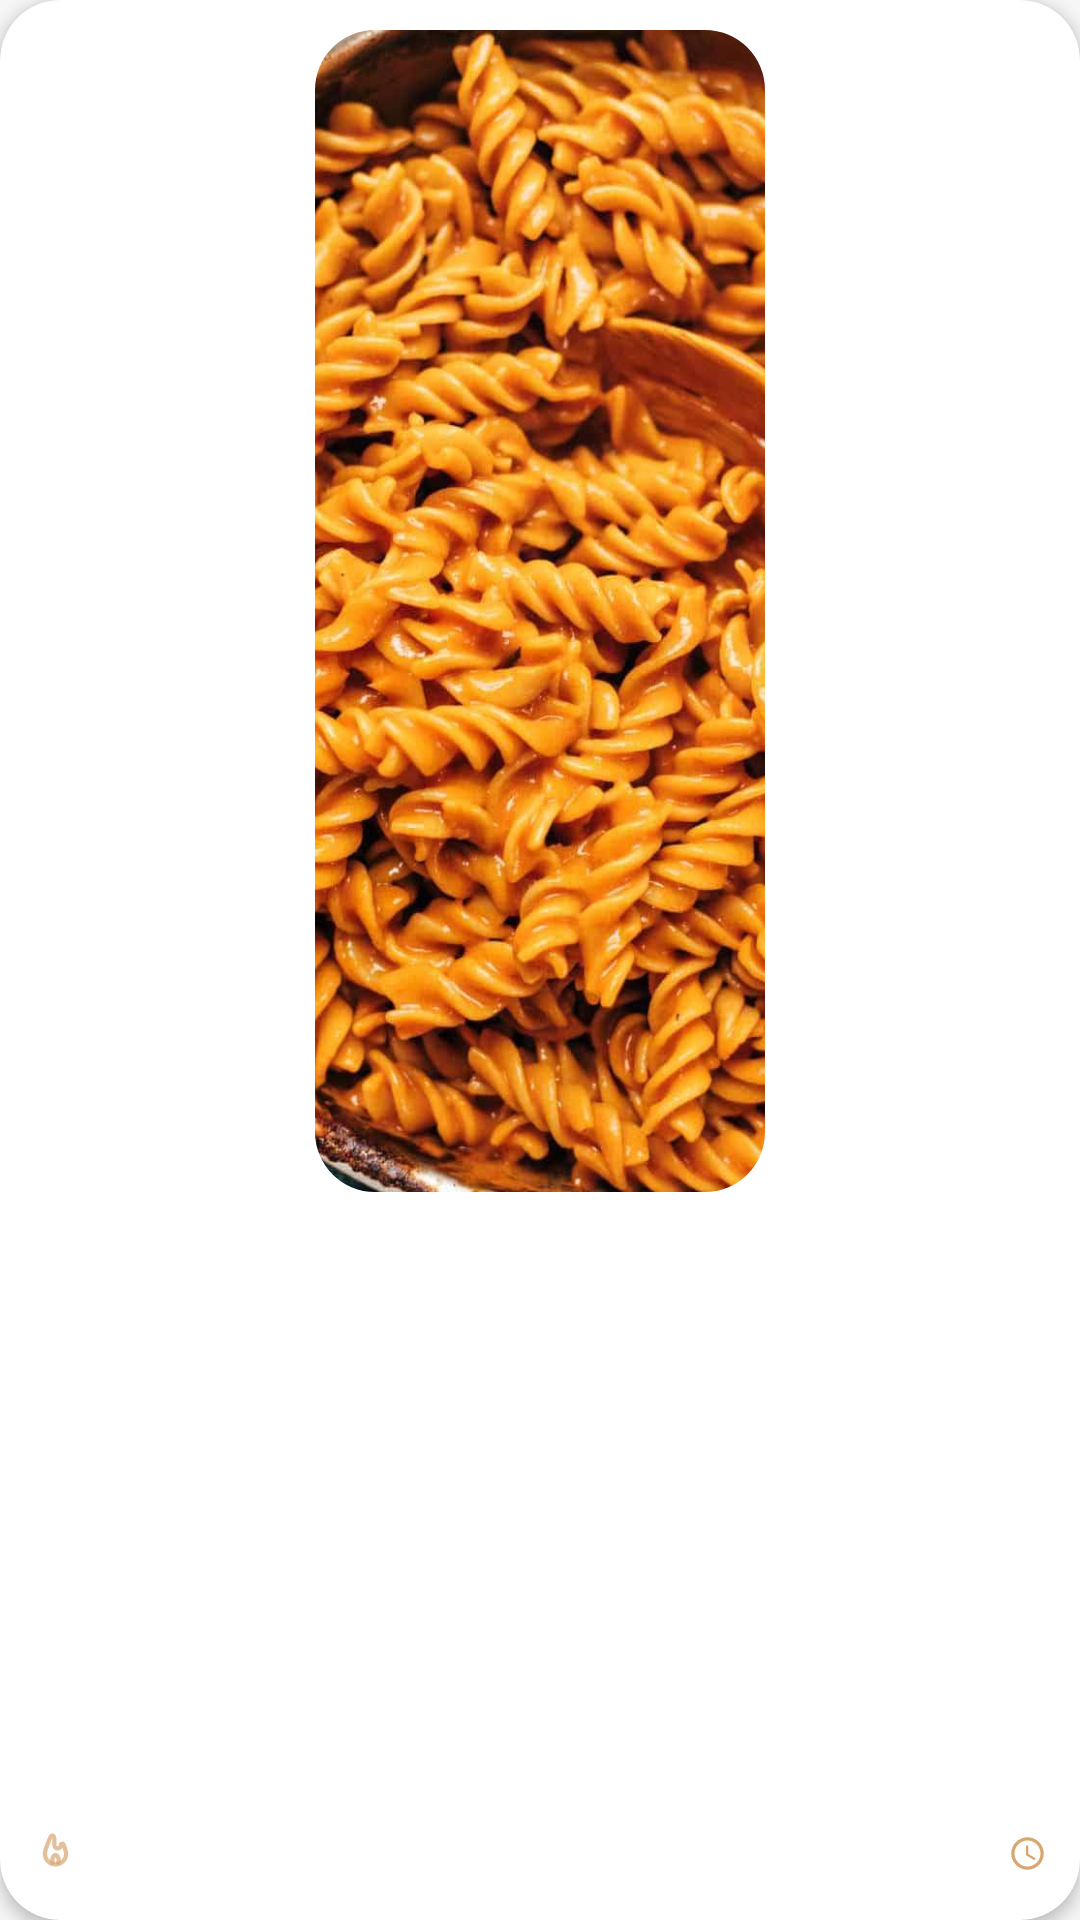

Named icons in this screenshot (1080w x 1920h) and their bounding boxes, (x1, y1, x2, y2):
clock: (1011, 1837, 1044, 1870)
